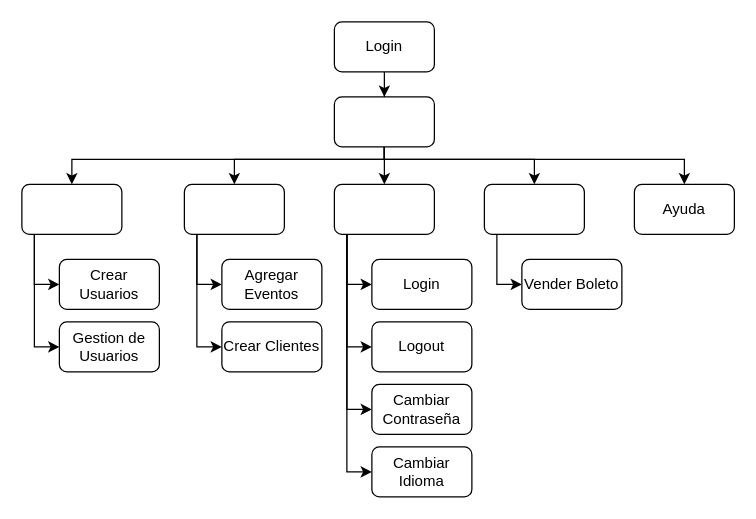
The diagram is 756 pixels wide and 519 high, and some of its shapes have lost their labels. The shapes that lost their labels are listed below. From the top down, each one's centre as x and y in pixels, then its label:
At pixel 383 121: "Menu Principal".
At pixel 71 208: "Administrador".
At pixel 233 208: "Maestros".
At pixel 383 208: "Usuario".
At pixel 533 208: "Vendedor".
